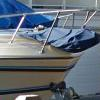Boat: (3, 5, 97, 85)
